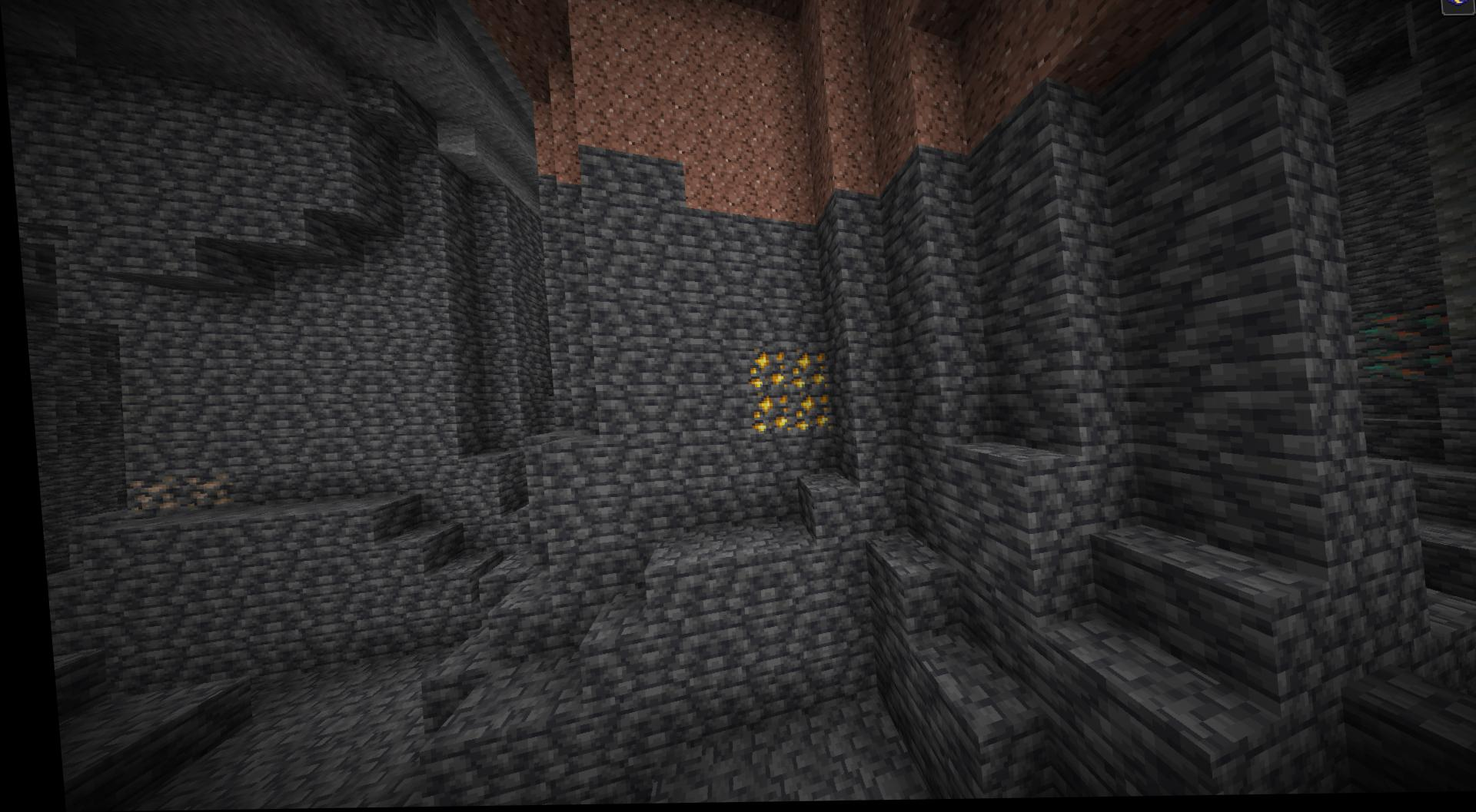gold ore: (738, 346, 785, 393), (744, 396, 786, 439), (784, 395, 829, 435), (784, 351, 822, 393)
iron ore: (113, 472, 175, 514), (170, 467, 227, 512)
